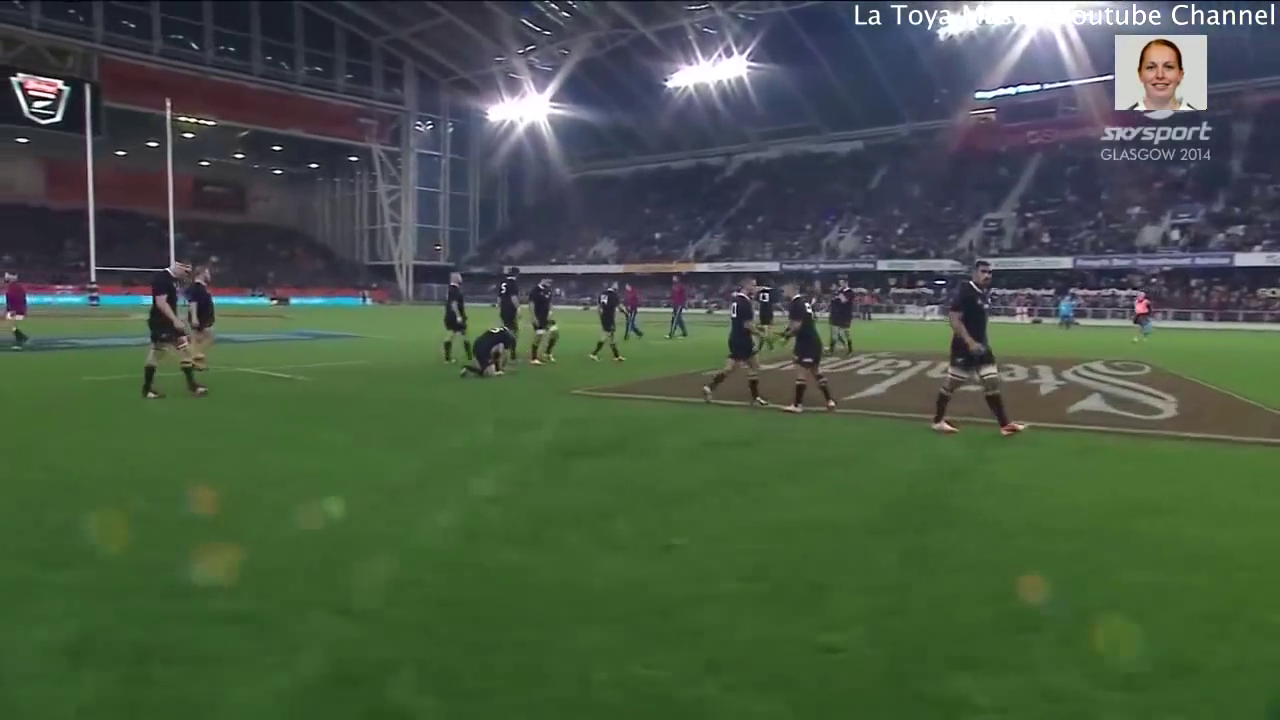player: (930, 256, 1037, 442), (133, 252, 210, 400), (766, 279, 844, 418), (698, 272, 771, 415), (434, 270, 476, 368), (180, 261, 220, 362), (521, 272, 560, 375), (453, 321, 523, 377), (590, 278, 632, 362), (491, 261, 527, 349), (826, 268, 857, 363), (1, 267, 33, 356), (663, 272, 691, 345), (619, 280, 646, 346)
post: (79, 129, 181, 307)
